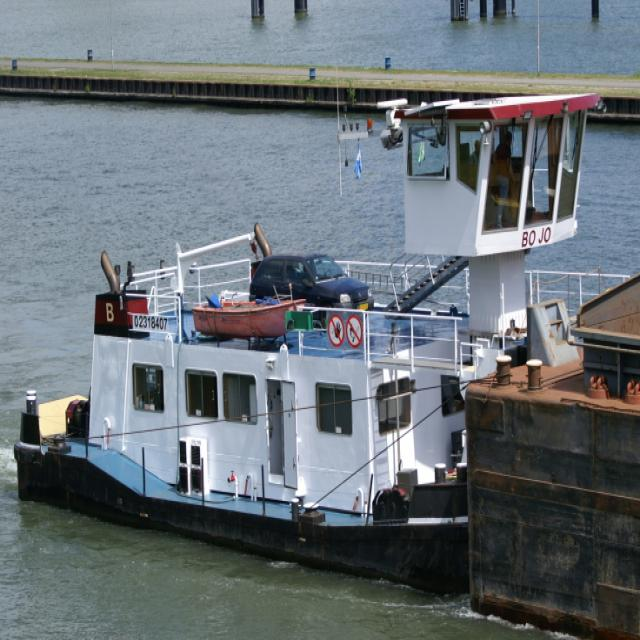tugboat: (6, 81, 640, 604)
